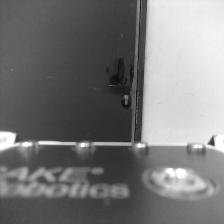Door Handle: (106, 58, 132, 84)
Lock: (122, 91, 134, 109)
